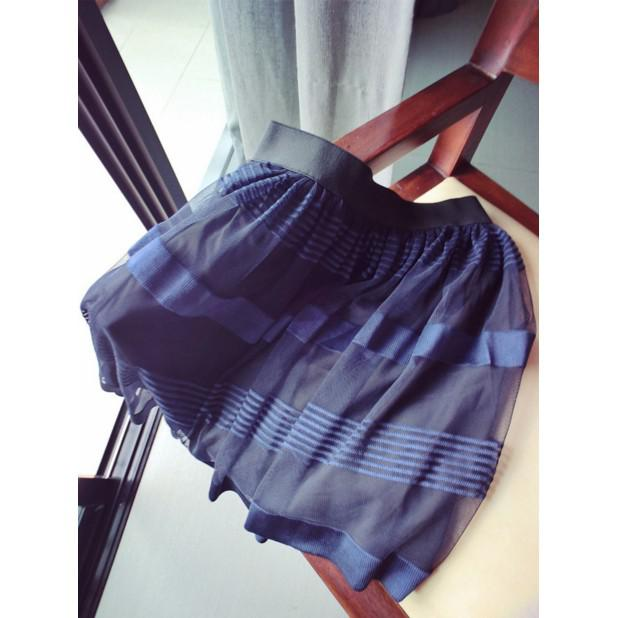Skirts: (82, 122, 526, 600)
